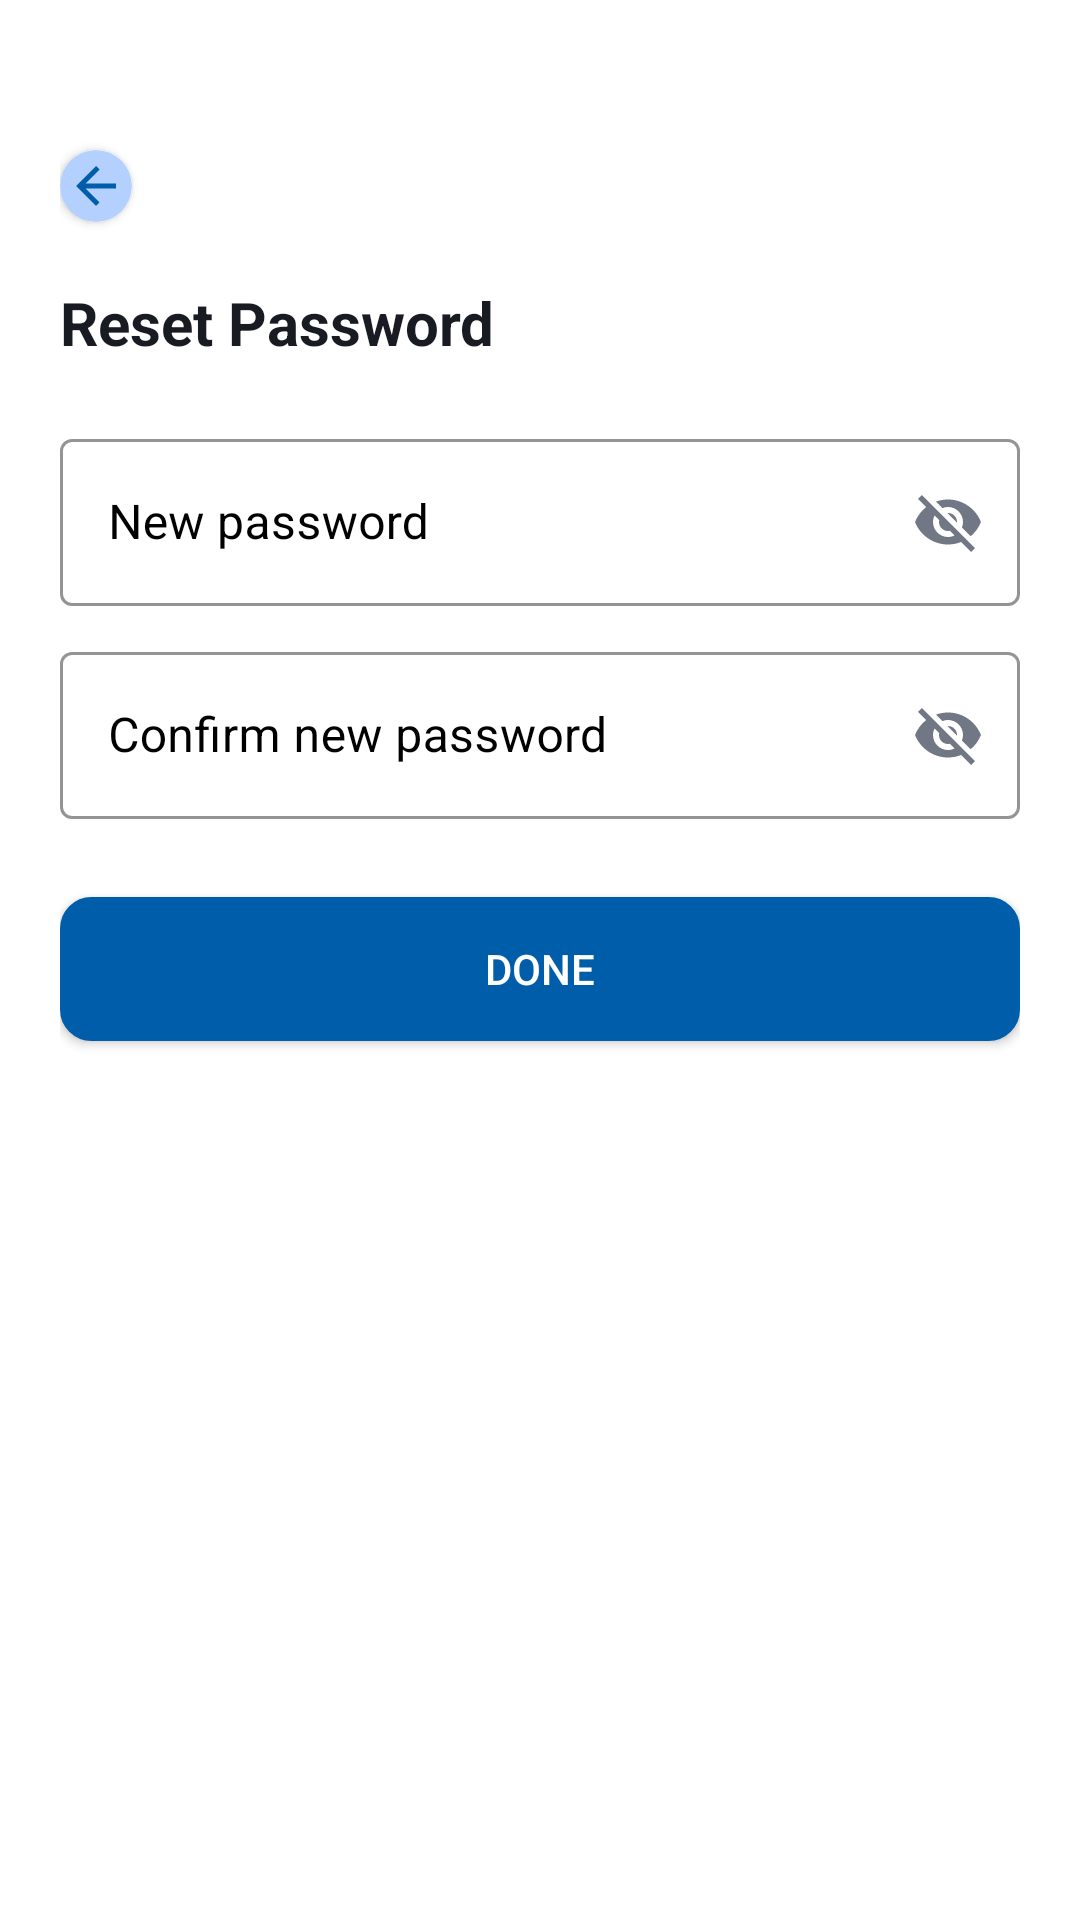

Icons on this 1080 × 1920 Android screen, each with the point to tap as [x,y]:
back: [96,186]
